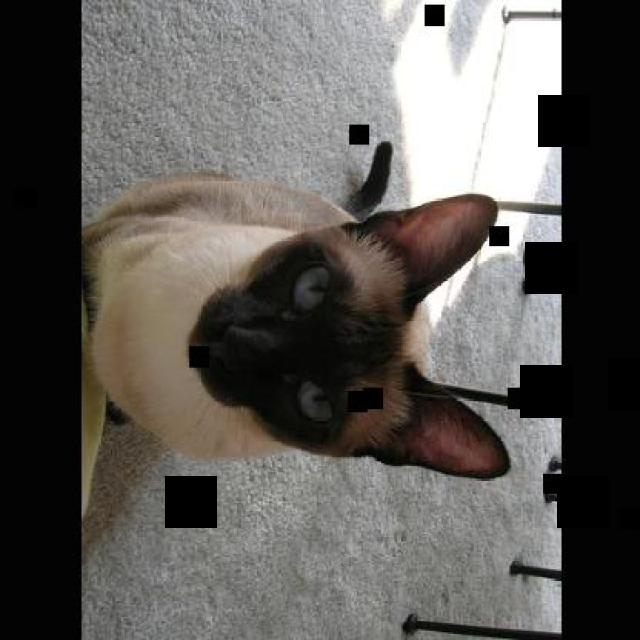unauthorized: (80, 138, 511, 522)
